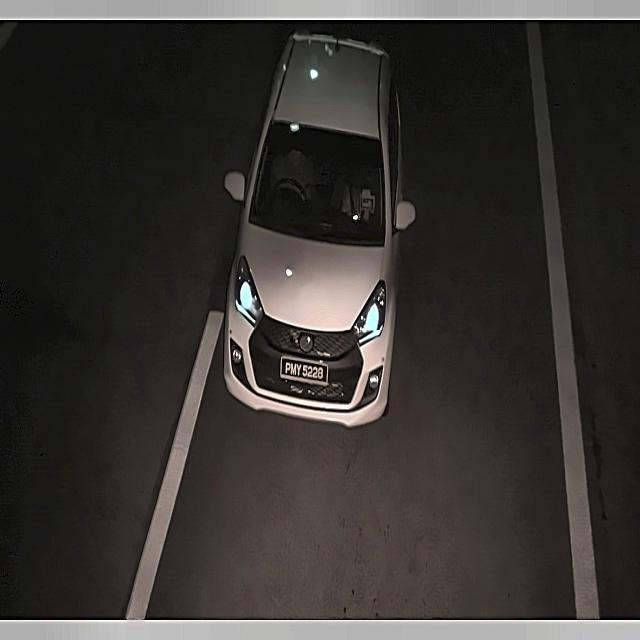car: (278, 348, 334, 394)
